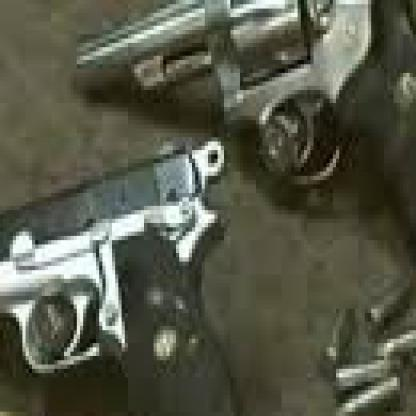gun: (64, 0, 414, 275), (0, 128, 266, 412)
